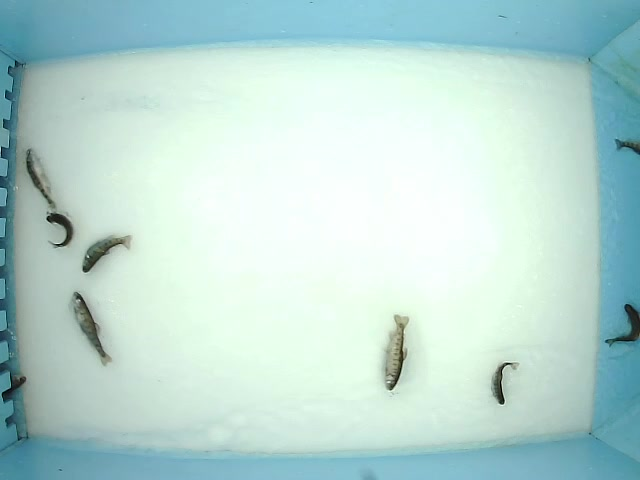fish: (68, 291, 114, 368), (26, 146, 59, 216), (381, 314, 410, 392), (81, 232, 133, 273), (604, 303, 640, 349), (489, 357, 521, 406), (46, 211, 76, 251)
